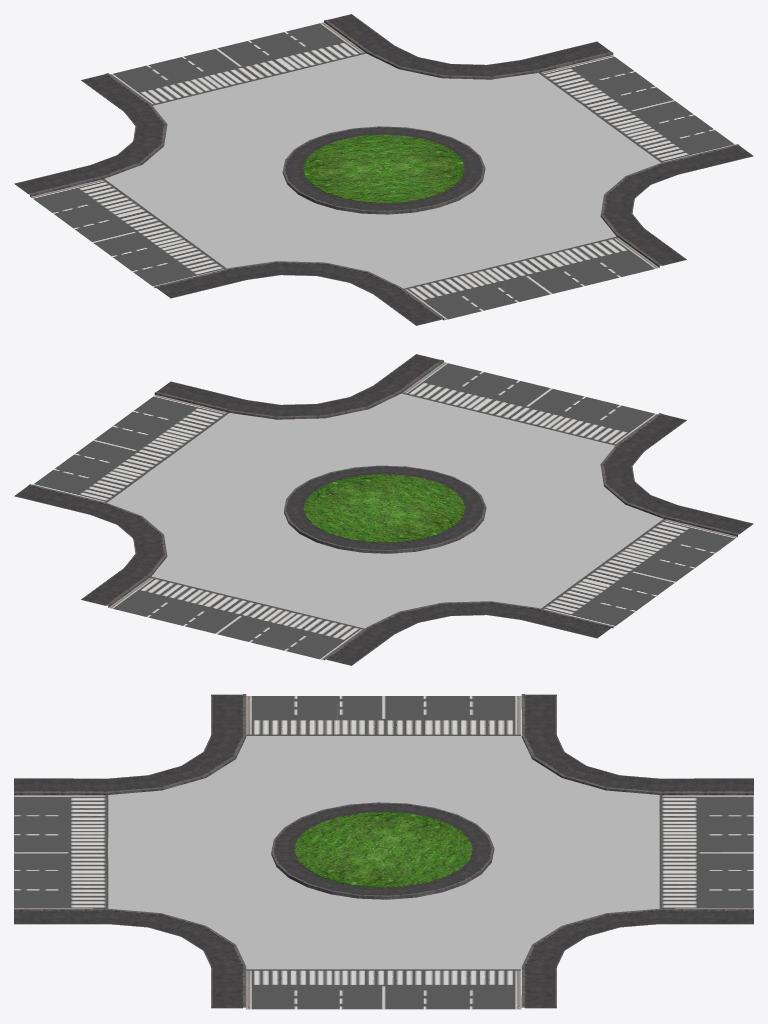
The model's file is round about 6 lines.FBX.
3 views of the same model, one above another, from view 1: azimuth 30°, elevation 25°; view 2: azimuth 150°, elevation 25°; view 3: azimuth 270°, elevation 25° (orthographic). The views are drawn at different scales.
Visible parts, largest first — view 1: Plane270; view 2: Plane270; view 3: Plane270.
Part boxes in pixels (bbox=[...]): Plane270: bbox=[14, 14, 753, 325]; Plane270: bbox=[14, 354, 753, 665]; Plane270: bbox=[14, 694, 753, 1009].
Size of the model in its own units: 94.66 by 0.8545 by 94.38.
